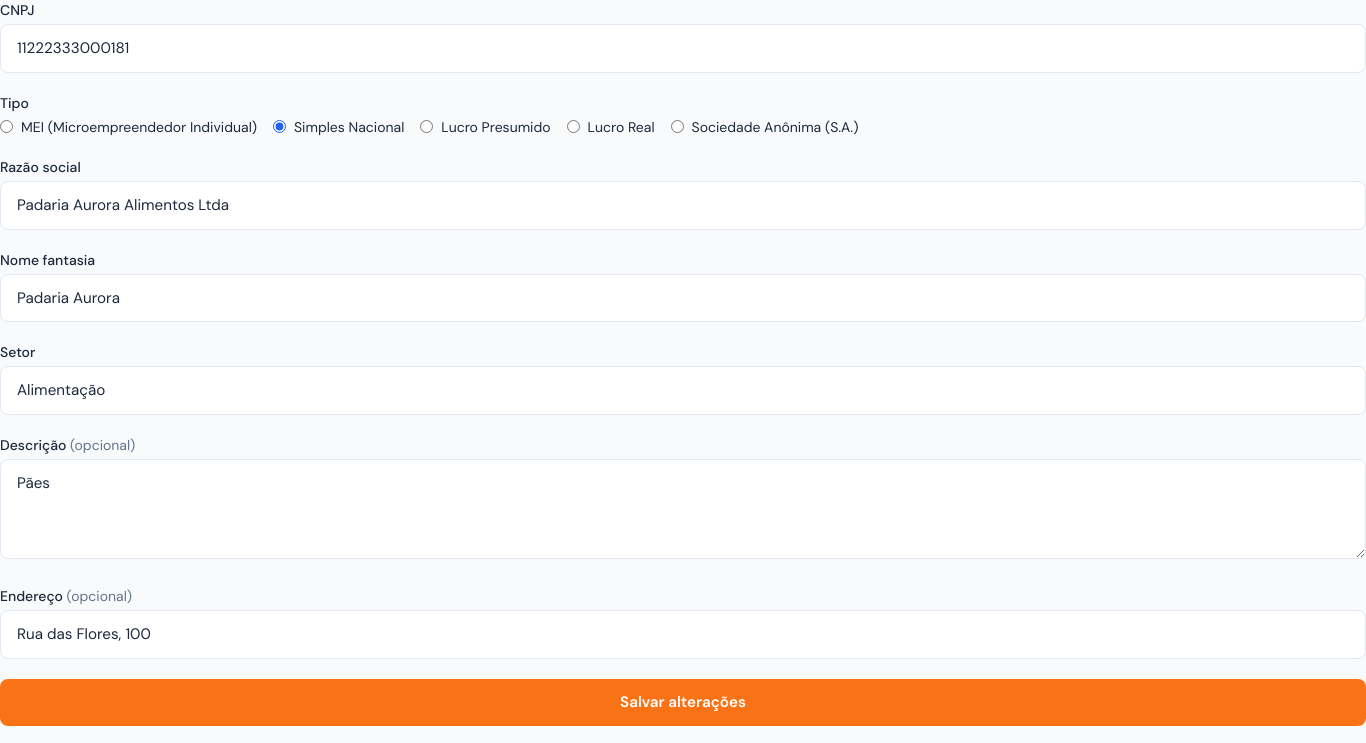
Test case: EditCompanyForm (USP-015) › exibe a mensagem de erro do servidor (ex.: CONFLICT)
Replace the text in the text box labelled "Descrição (opcional)" with "novo texto" at (683, 509), box [0,459,1365,559]
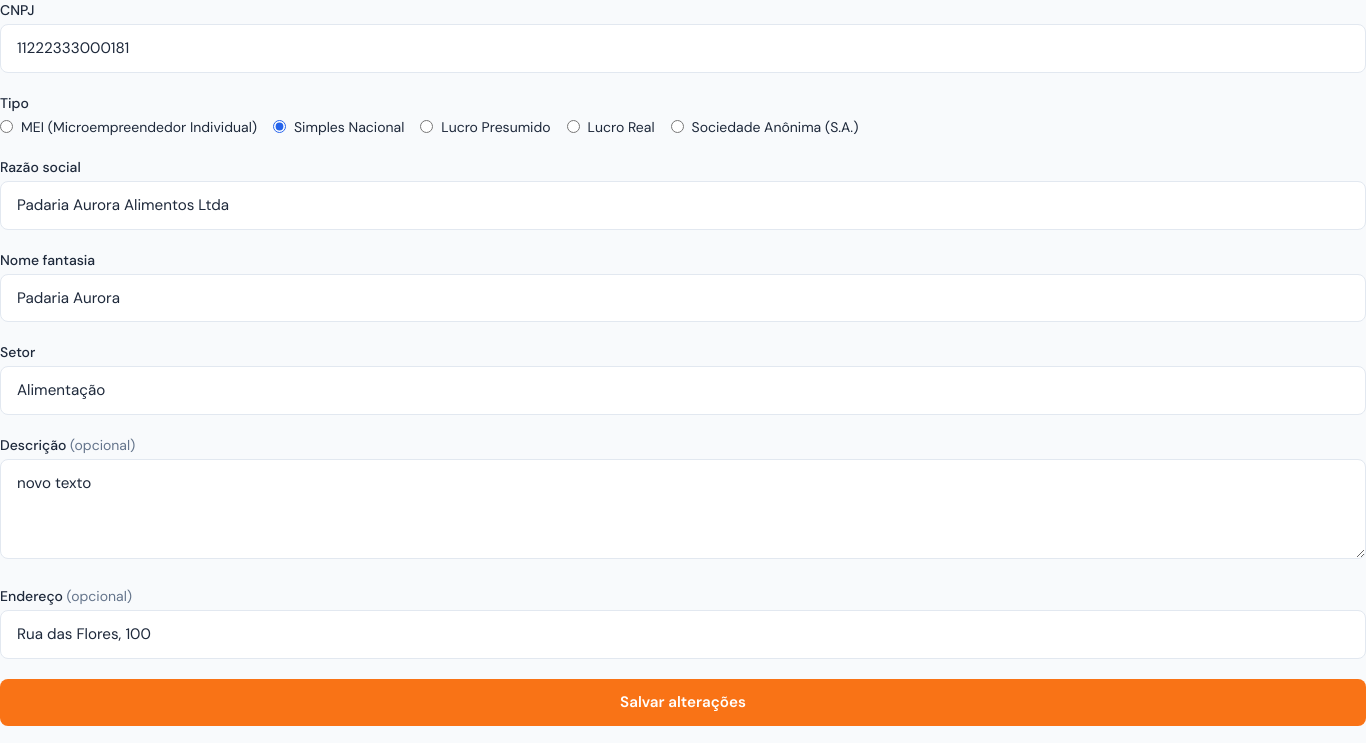
Click the button "Salvar alterações" at (683, 702), box [0,679,1365,726]
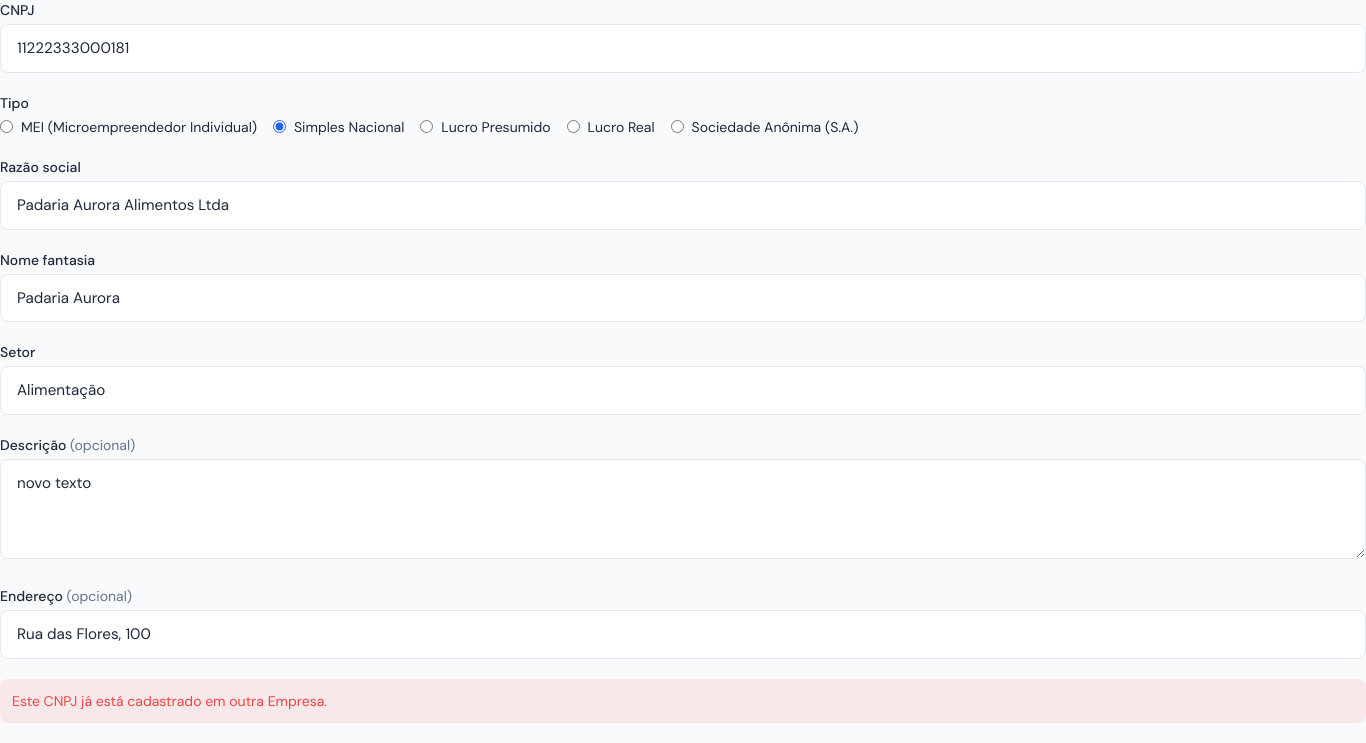
Check: the message shows "já está cadastrado", box [12,692,327,710]
